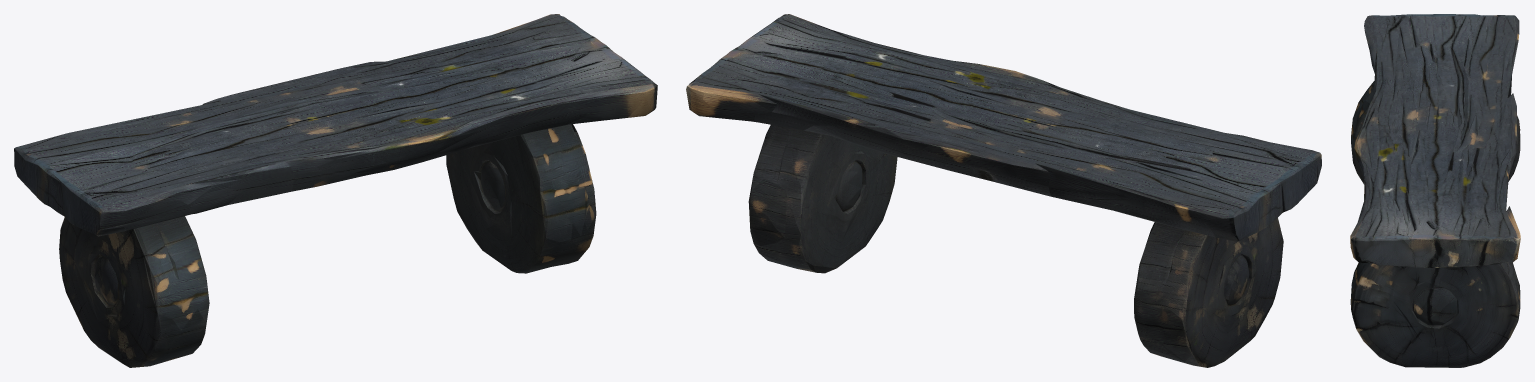
The picture shows the model from 3 angles, left to right: view 1: azimuth 30°, elevation 25°; view 2: azimuth 150°, elevation 25°; view 3: azimuth 270°, elevation 25°; orthographic projection. The views are drawn at different scales.
Size of the model in its own units: 1.9 by 0.6169 by 0.6065.
Materials: 1 (1 with a texture image).
